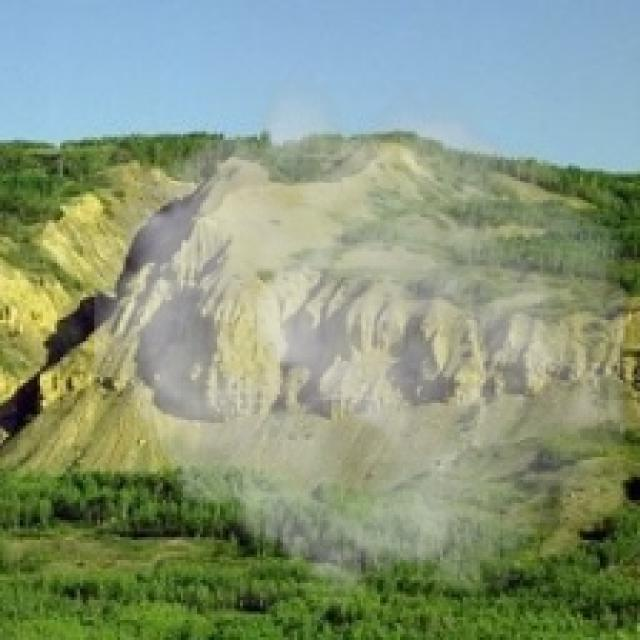Smoke: (94, 75, 626, 614)
